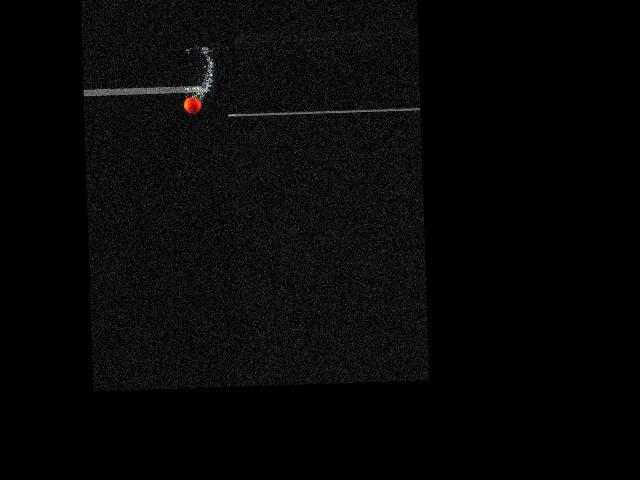tomato: (183, 96, 201, 113)
